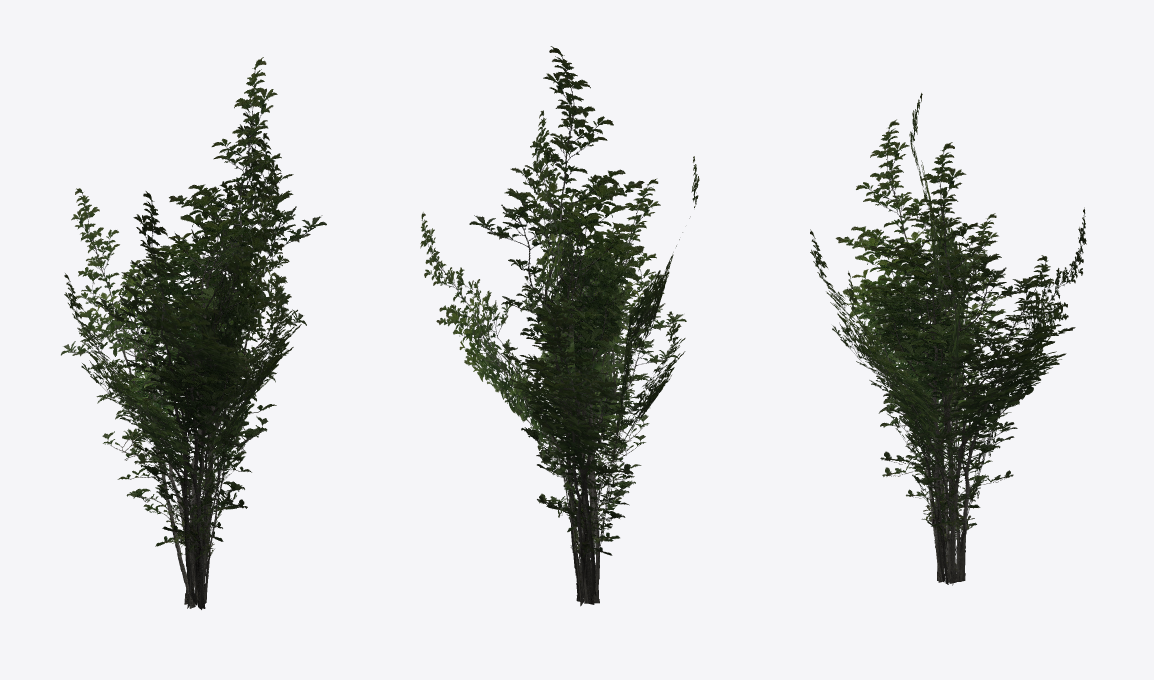
File: tree_1.glb
The picture shows the model from 3 angles, left to right: view 1: azimuth 30°, elevation 25°; view 2: azimuth 150°, elevation 25°; view 3: azimuth 270°, elevation 25°; orthographic projection. The views are drawn at different scales.
Parts seen in each view (by area): view 1: tree_1; view 2: tree_1; view 3: tree_1.
Boxes of the visible parts, x1,y1,x2,y2 form: tree_1: (61,57,326,609); tree_1: (420,46,699,606); tree_1: (810,93,1086,585).
Size of the model in its own units: 1.97 by 4.3 by 2.5.
1 material, 1 textured.
